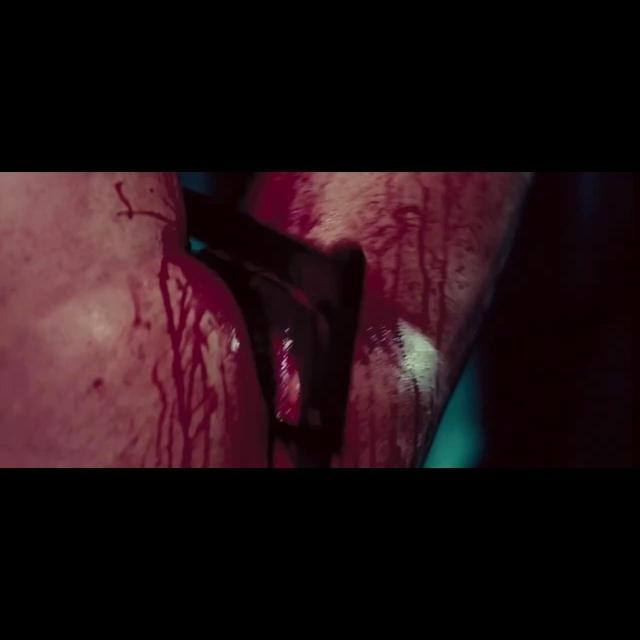blood: (113, 172, 528, 468)
